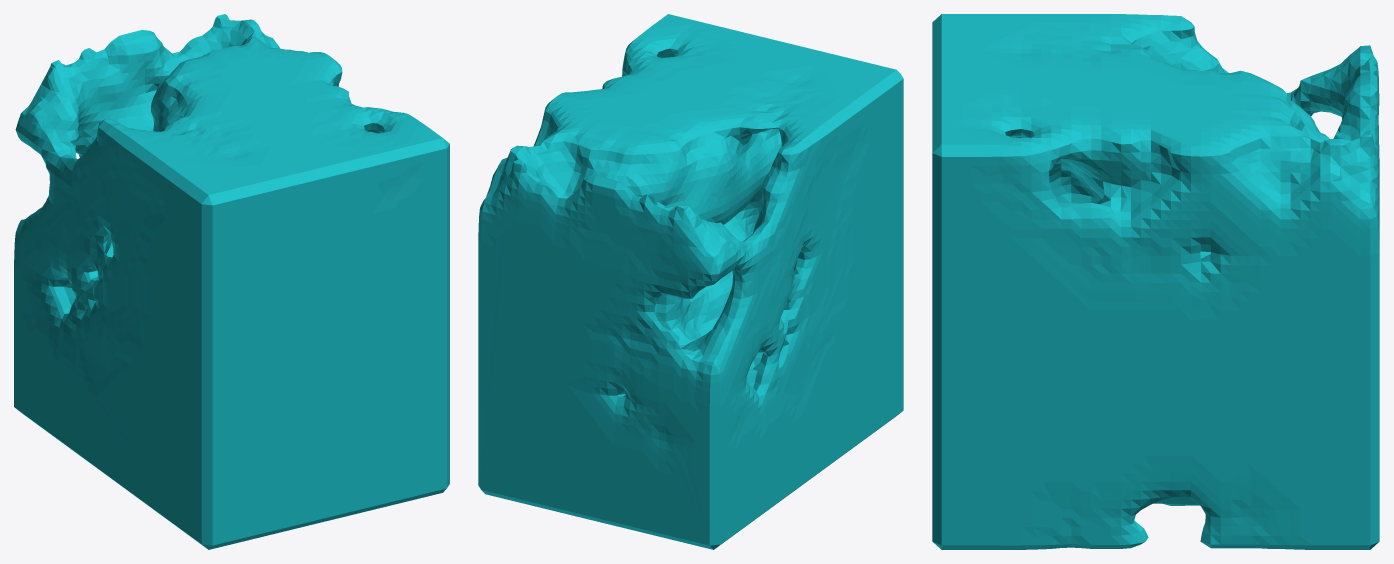
3 renders of one model, left to right at view 1: azimuth 30°, elevation 25°; view 2: azimuth 150°, elevation 25°; view 3: azimuth 270°, elevation 25°, orthographic. The views are drawn at different scales.
Visible parts, largest first — view 1: Liquid_Domain; view 2: Liquid_Domain; view 3: Liquid_Domain.
Part boxes in pixels (x1=…): Liquid_Domain: x1=14, y1=14, x2=449, y2=549; Liquid_Domain: x1=478, y1=14, x2=903, y2=549; Liquid_Domain: x1=932, y1=14, x2=1379, y2=549.
Bounding box in the file's own units: 79.09 × 108 × 108.
